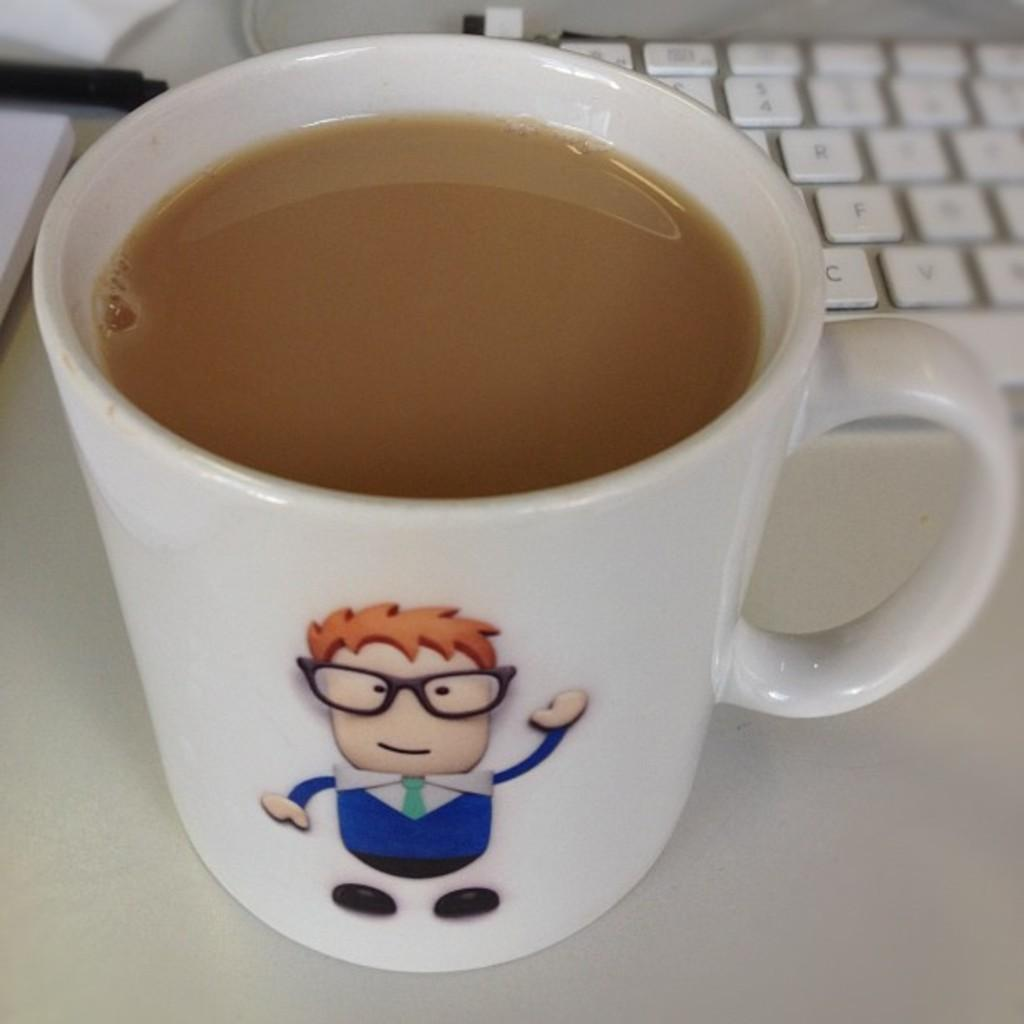Computer-keyboard: (539, 40, 1022, 376)
